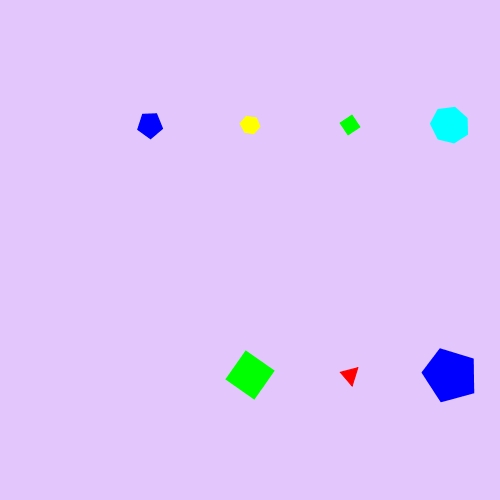heptagon: (427, 103, 473, 147)
hexagon: (235, 112, 265, 138)
pentagon: (420, 345, 481, 406), (133, 108, 167, 142)
quadrilateral: (222, 347, 278, 403), (335, 110, 365, 140)
triangle: (337, 362, 363, 389)
